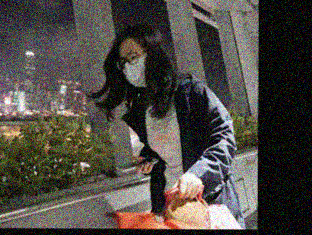with_mask: (118, 48, 147, 87)
